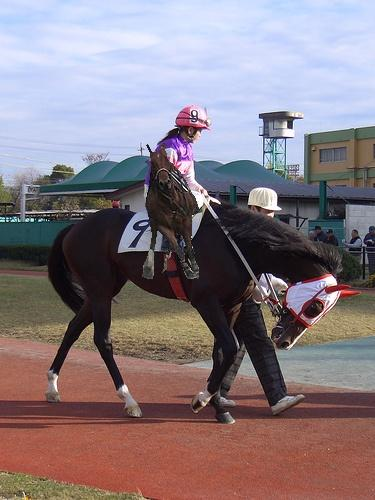tampered: (143, 144, 199, 279)
